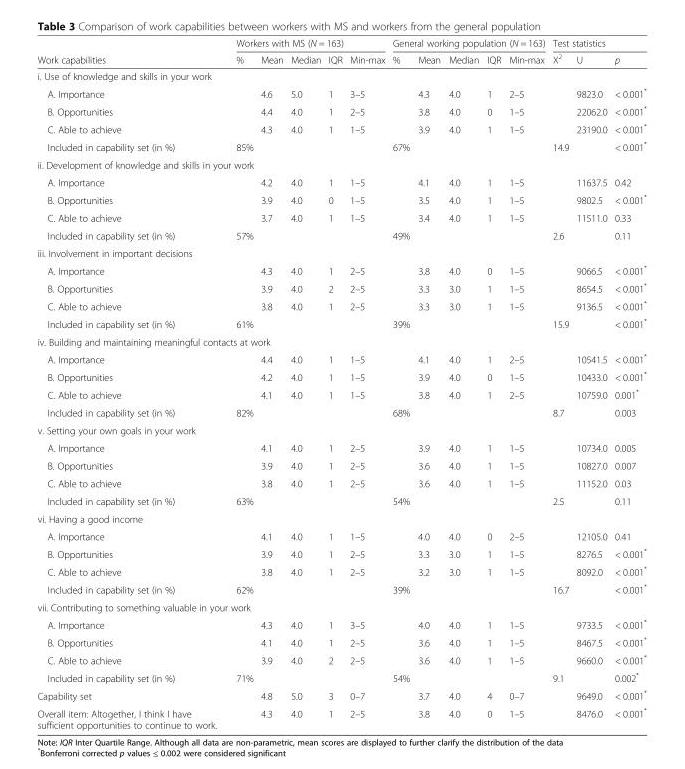table: (36, 37, 645, 730)
table column: (36, 37, 225, 730), (504, 37, 548, 730), (345, 37, 388, 730), (286, 37, 324, 730), (444, 37, 482, 730), (572, 37, 610, 730), (610, 37, 645, 730), (225, 37, 256, 730), (413, 37, 444, 730), (256, 37, 286, 730), (388, 37, 413, 730), (548, 37, 572, 730), (482, 37, 504, 730), (324, 37, 345, 730)
table column header: (36, 37, 645, 67)
table projected row header: (36, 155, 645, 173), (36, 509, 645, 527), (36, 67, 645, 84), (36, 244, 645, 261), (36, 332, 645, 349), (36, 421, 645, 438), (36, 598, 645, 615)
table row: (36, 703, 645, 730), (36, 384, 645, 403), (36, 579, 645, 598), (36, 101, 645, 119), (36, 119, 645, 137), (36, 137, 645, 155), (36, 155, 645, 173), (36, 190, 645, 208), (36, 208, 645, 226), (36, 226, 645, 244), (36, 278, 645, 296), (36, 296, 645, 314), (36, 314, 645, 332), (36, 349, 645, 367), (36, 403, 645, 421), (36, 438, 645, 456), (36, 456, 645, 474), (36, 474, 645, 492), (36, 509, 645, 527), (36, 544, 645, 562), (36, 632, 645, 650), (36, 650, 645, 668), (36, 685, 645, 703), (36, 50, 645, 67), (36, 67, 645, 84), (36, 84, 645, 101), (36, 173, 645, 190), (36, 244, 645, 261), (36, 261, 645, 278), (36, 332, 645, 349), (36, 367, 645, 384), (36, 421, 645, 438), (36, 492, 645, 509), (36, 527, 645, 544), (36, 562, 645, 579), (36, 598, 645, 615), (36, 615, 645, 632), (36, 668, 645, 685), (36, 37, 645, 50)
table spanning cell: (36, 37, 225, 67), (225, 37, 388, 50), (388, 37, 548, 50), (548, 37, 645, 50)
